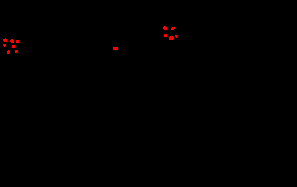Target: (169, 36, 174, 40), (163, 26, 167, 30), (3, 38, 7, 42), (10, 39, 14, 43), (113, 47, 118, 50), (171, 27, 175, 30), (7, 50, 10, 54), (164, 34, 167, 37), (175, 35, 178, 38), (16, 40, 19, 43), (3, 44, 6, 47), (12, 45, 15, 48), (15, 50, 18, 53)
